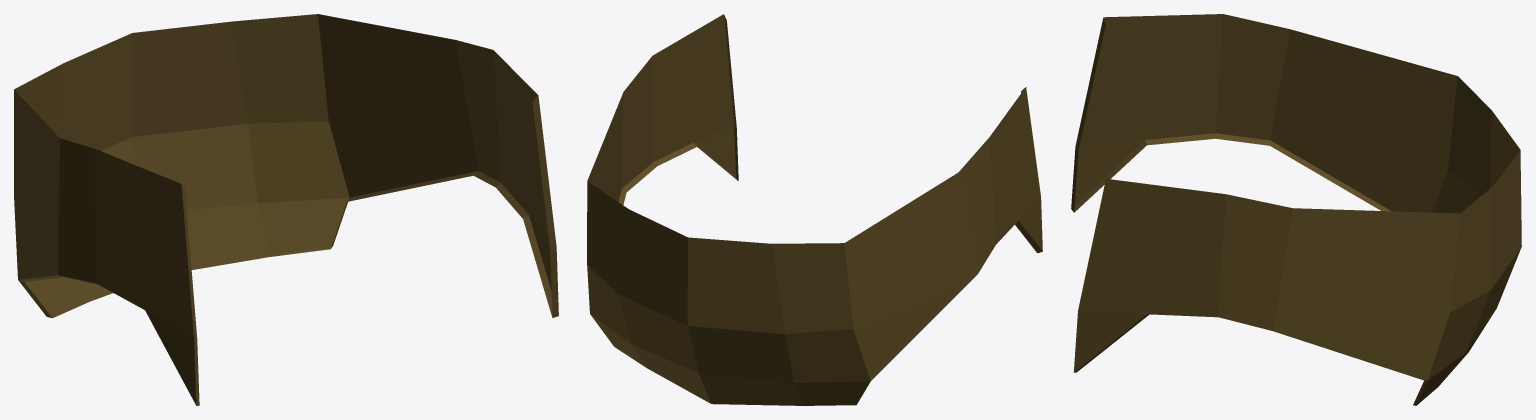
File: Hair2.obj
3 renders of one model, left to right at view 1: azimuth 30°, elevation 25°; view 2: azimuth 150°, elevation 25°; view 3: azimuth 270°, elevation 25°, orthographic. The views are drawn at different scales.
Bounding box in the file's own units: 0.2017 × 0.1266 × 0.2019.
